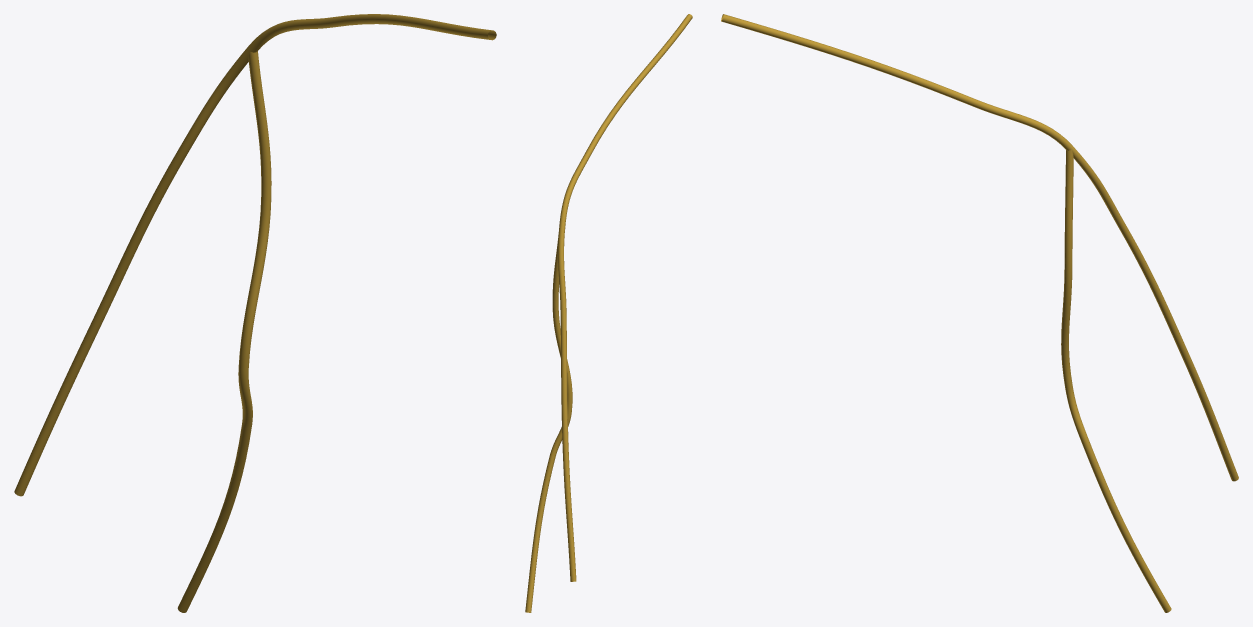
3 renders of one model, left to right at view 1: azimuth 30°, elevation 25°; view 2: azimuth 150°, elevation 25°; view 3: azimuth 270°, elevation 25°, orthographic. The views are drawn at different scales.
Visible parts, largest first — view 1: 右侧足背中间皮神经; view 2: 右侧足背中间皮神经; view 3: 右侧足背中间皮神经.
Boxes of the visible parts, left/top/right/bottom form: 右侧足背中间皮神经: left=14, top=14, right=496, bottom=612; 右侧足背中间皮神经: left=525, top=14, right=692, bottom=612; 右侧足背中间皮神经: left=721, top=14, right=1238, bottom=612.
Size of the model in its own units: 0.0257 by 0.1254 by 0.0973.
